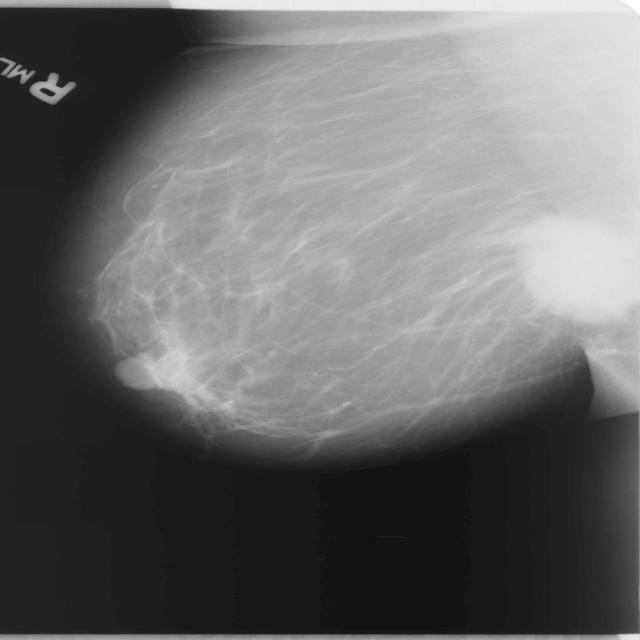tumour: (519, 214, 638, 318)
